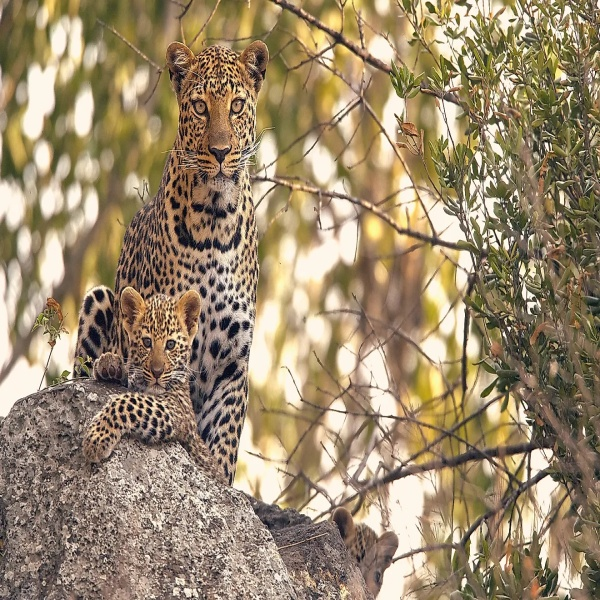Leopard: (68, 36, 276, 486), (78, 285, 213, 474)
